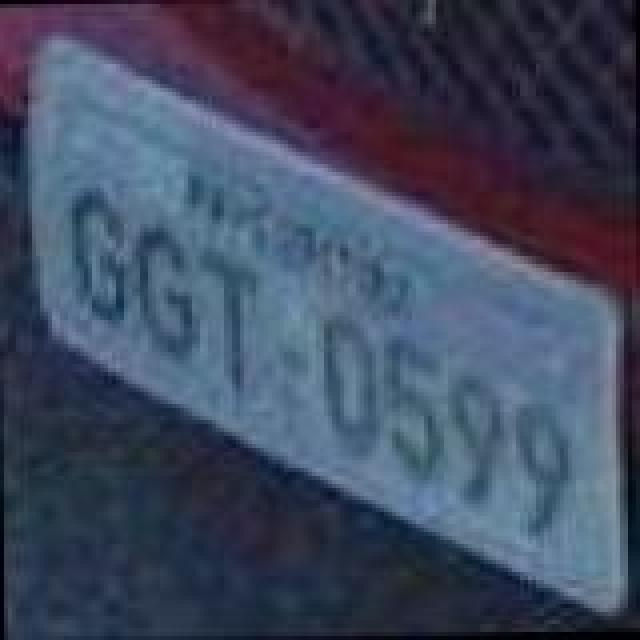5: (380, 342, 448, 482)
9: (448, 374, 516, 514), (514, 402, 578, 542)
G: (62, 190, 134, 330), (132, 236, 204, 360)
O: (318, 312, 390, 452)
T: (200, 246, 264, 394)
